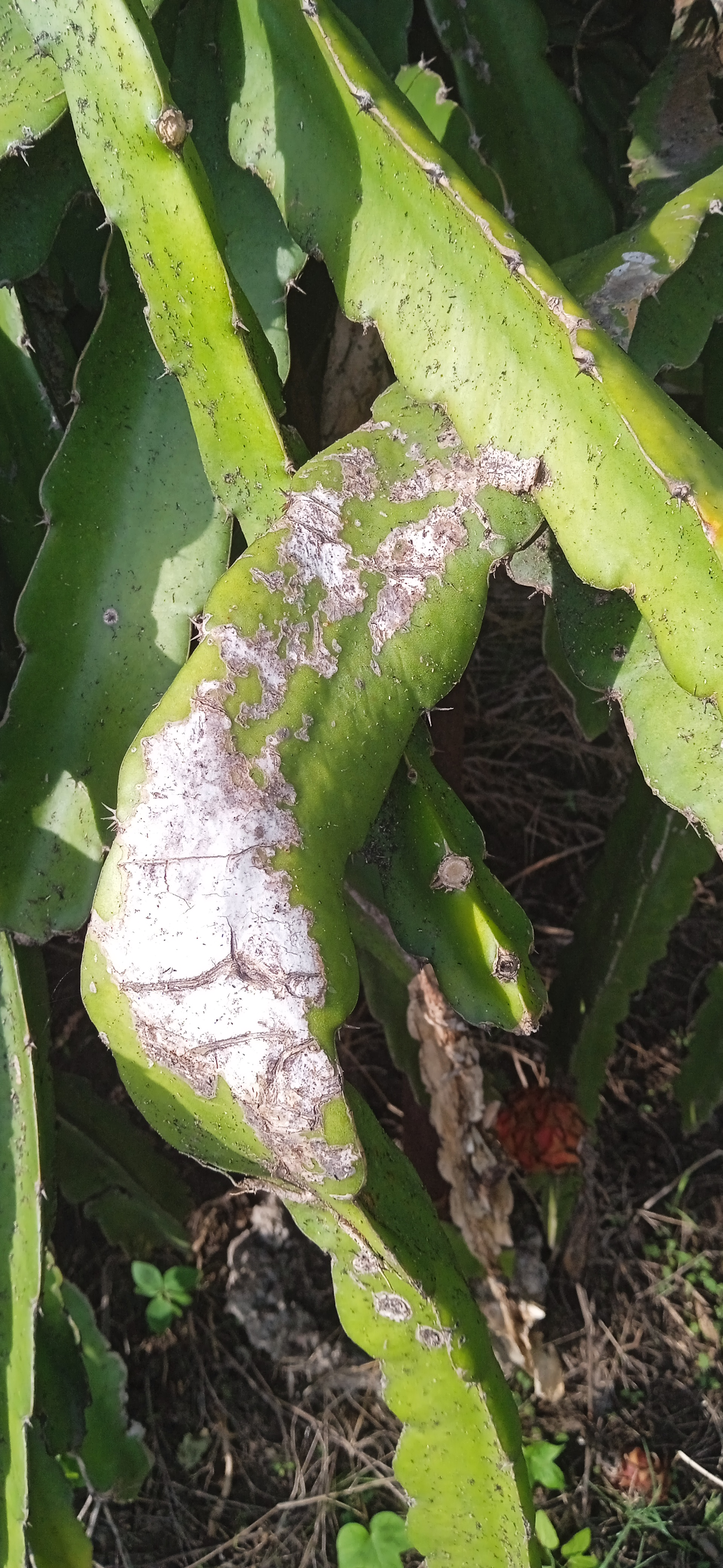stemcanker: (77, 378, 551, 1568)
